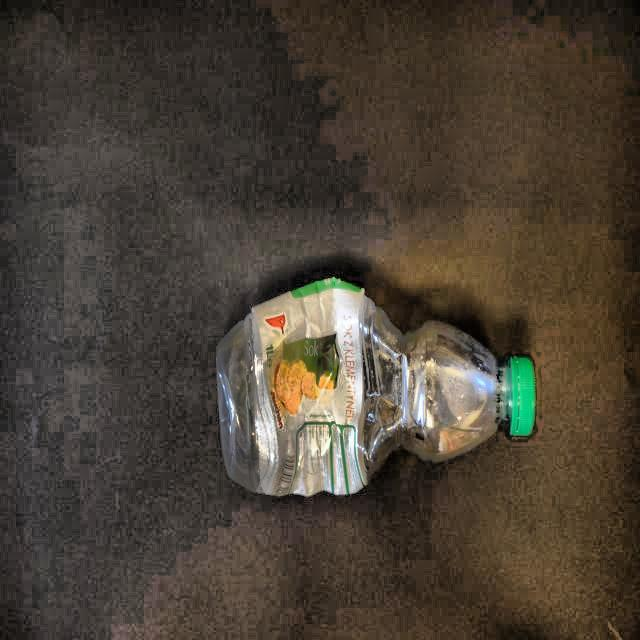plastic bottle: (218, 278, 536, 497)
